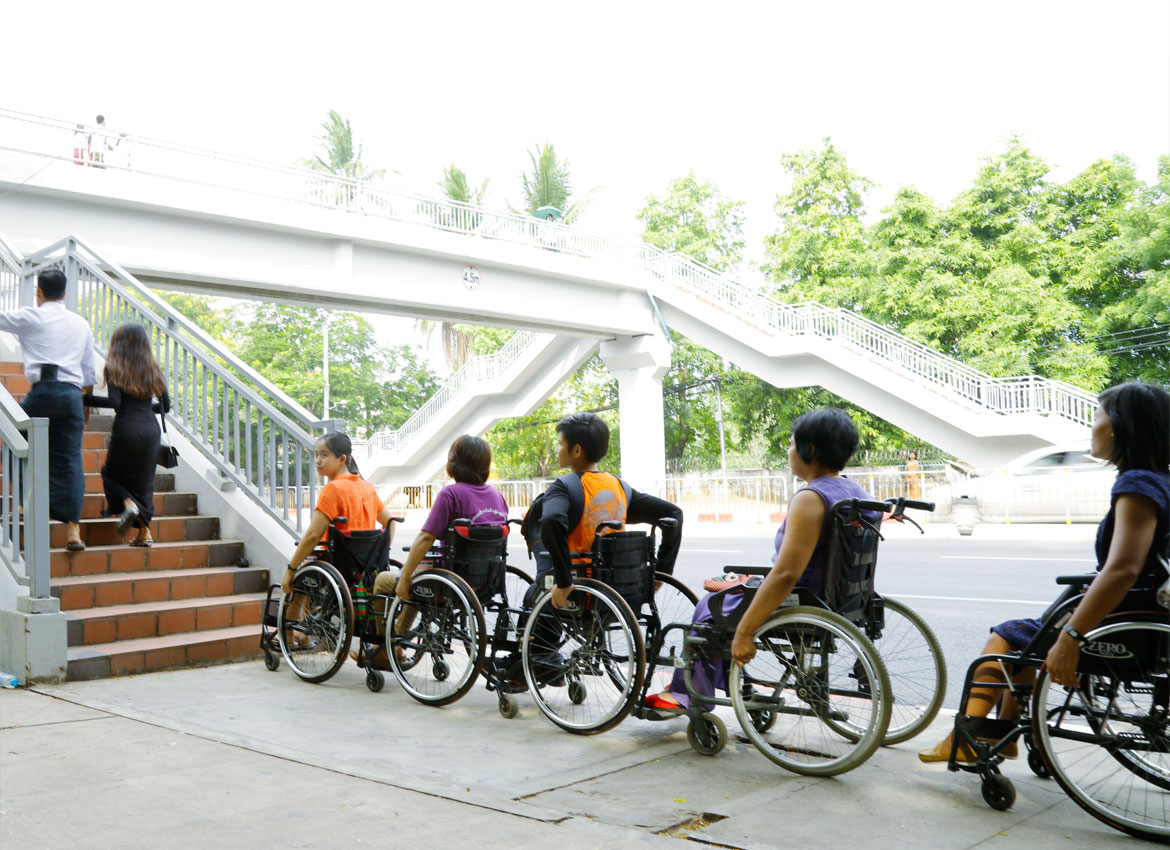person: (708, 403, 883, 620), (523, 404, 684, 606), (280, 427, 388, 588)
